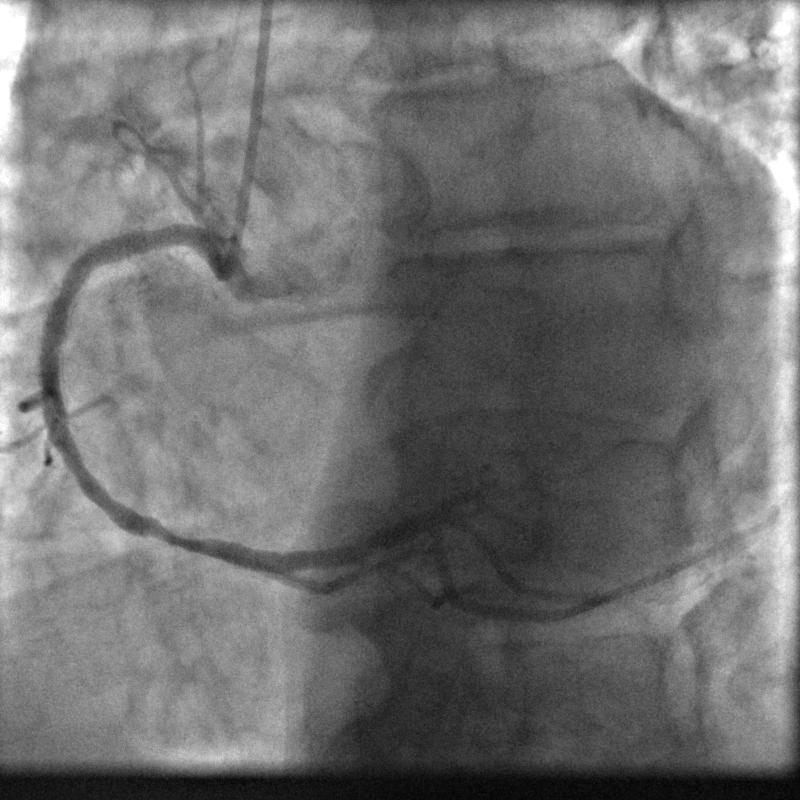Stenosis: (141, 516, 190, 553)
